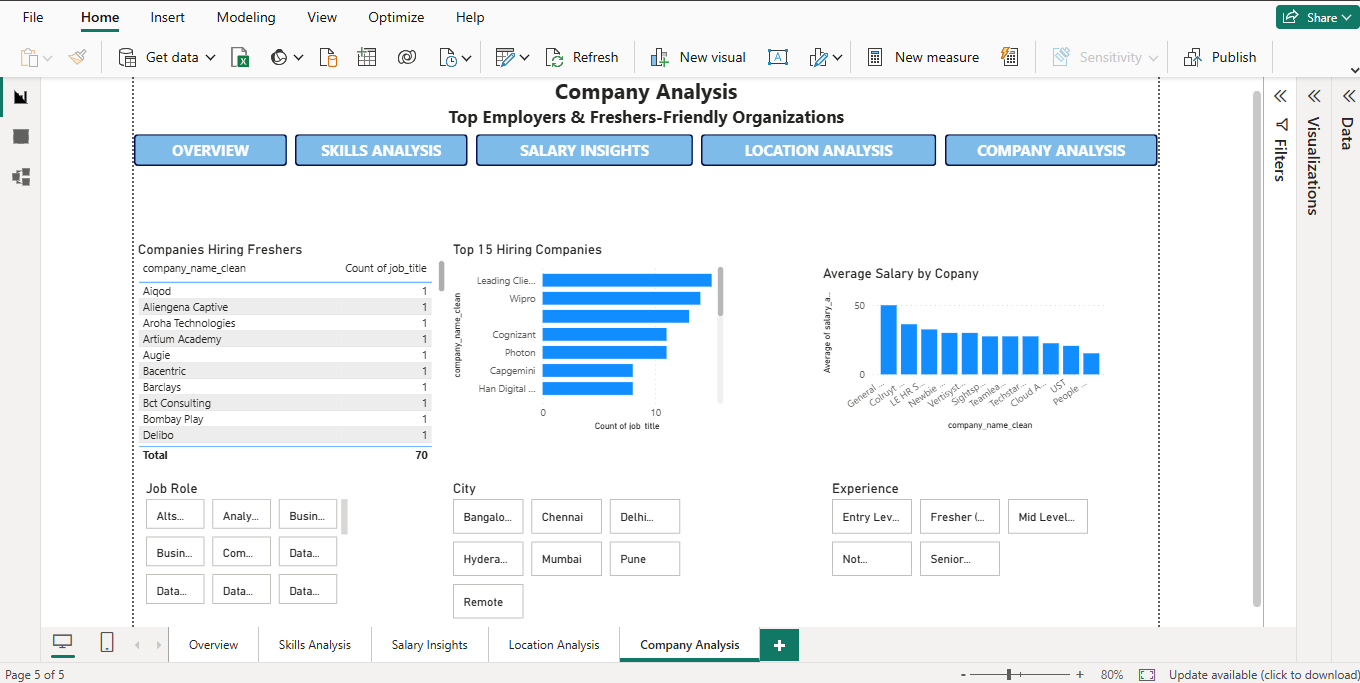

What the dashboard file says about the page in this screenshot:
{"tool":"powerbi","page":{"name":"Company Analysis","canvas":[1280,720],"ordinal":4},"visuals":[{"type":"clusteredBarChart","title":"Top 15 Hiring Companies","fields":{"Category":["cleaned_jobs.company_name_clean"],"Y":["CountNonNull(cleaned_jobs.job_title)"]},"box":[393.7,210.7,348.3,241.5],"z":0},{"type":"tableEx","title":"Companies Hiring Freshers","fields":{"Values":["cleaned_jobs.company_name_clean","cleaned_jobs.job_title"]},"box":[0,210.7,393.7,281],"z":1000},{"type":"clusteredColumnChart","title":"Average Salary by Copany","fields":{"Category":["cleaned_jobs.company_name_clean"],"Y":["Avg(cleaned_jobs.salary_avg_lpa)"]},"box":[856.1,241.5,365.9,210.7],"z":2000},{"type":"advancedSlicerVisual","fields":{"Values":["cleaned_jobs.experience_level"]},"box":[867.1,510,332.9,180],"z":3000},{"type":"advancedSlicerVisual","fields":{"Values":["cleaned_jobs.job_title_clean"]},"box":[10,510,262.9,160],"z":4000},{"type":"advancedSlicerVisual","fields":{"Values":["cleaned_jobs.primary_city"]},"box":[394.3,510,294.3,180],"z":5000},{"type":"group","id":"g1","title":"Group 1","box":[0,77.6,1280.5,39.5],"z":6000},{"type":"textbox","box":[0,0,1280.5,77.6],"z":7000},{"type":"actionButton","box":[201.4,77.6,215.7,40],"z":9000,"group":"g1"},{"type":"actionButton","box":[427.1,77.6,271.4,40],"z":10000,"group":"g1"},{"type":"actionButton","box":[708.6,77.6,294.3,40],"z":11000,"group":"g1"},{"type":"actionButton","box":[1014.3,77.6,265.7,40],"z":12000,"group":"g1"},{"type":"actionButton","box":[0,77.6,191.4,40],"z":13000,"group":"g1"}]}

Visuals, with their boxes on the page's 1280x720 design canvas (x1, y1, x2, y2). These are canvas units, not pixel positions in the 1360x683 screenshot, which may show the page scaled, cropped or inside an application window:
"Top 15 Hiring Companies" clusteredBarChart: bbox=[394, 211, 742, 452]
"Companies Hiring Freshers" tableEx: bbox=[0, 211, 394, 492]
"Average Salary by Copany" clusteredColumnChart: bbox=[856, 242, 1222, 452]
advancedSlicerVisual - cleaned_jobs.experience_level: bbox=[867, 510, 1200, 690]
advancedSlicerVisual - cleaned_jobs.job_title_clean: bbox=[10, 510, 273, 670]
advancedSlicerVisual - cleaned_jobs.primary_city: bbox=[394, 510, 689, 690]
"Group 1" group: bbox=[0, 78, 1280, 117]
textbox: bbox=[0, 0, 1280, 78]
actionButton: bbox=[201, 78, 417, 118]
actionButton: bbox=[427, 78, 698, 118]
actionButton: bbox=[709, 78, 1003, 118]
actionButton: bbox=[1014, 78, 1280, 118]
actionButton: bbox=[0, 78, 191, 118]
